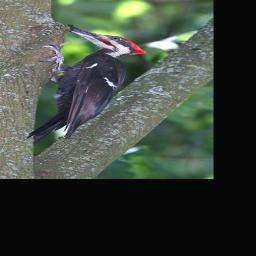Woodpecker: (27, 25, 148, 144)
